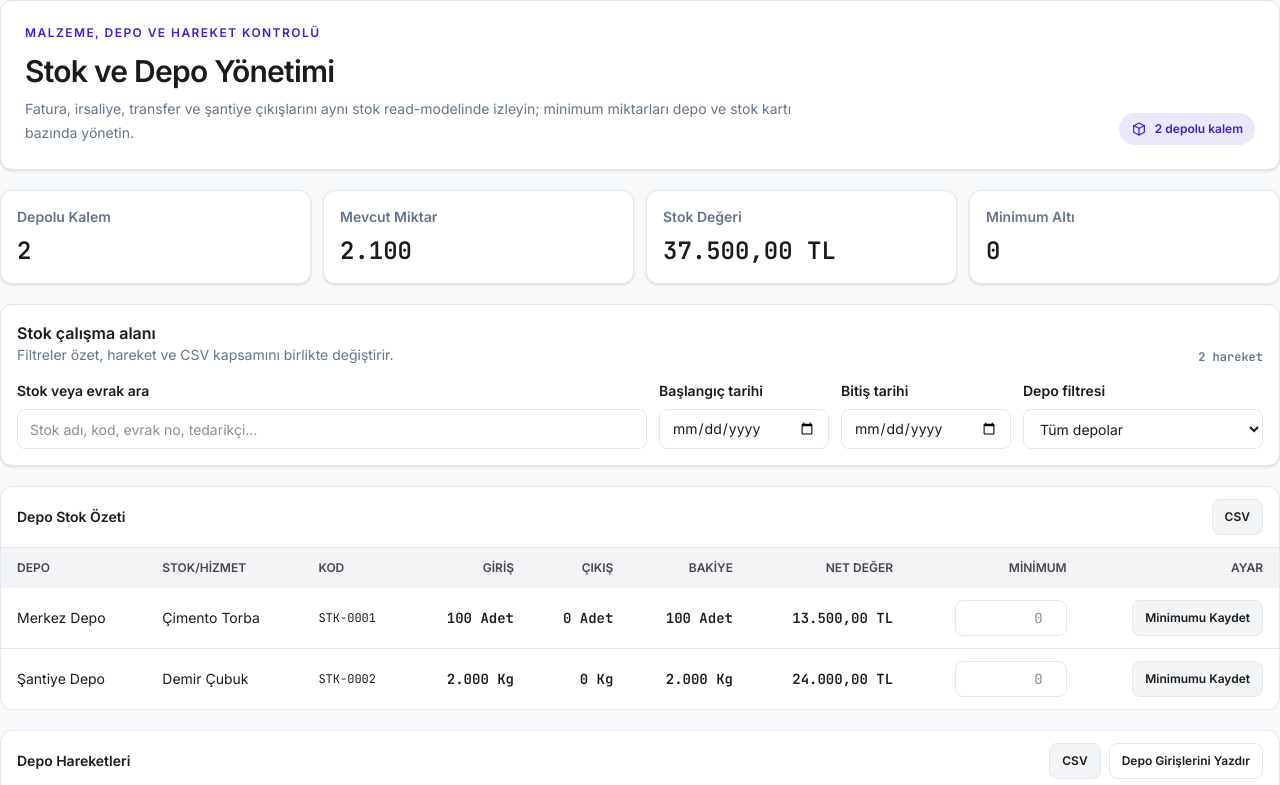
Test: StockDepotSurface › prints the filtered stock depot movement scope
Step 1. Type "2026-07-01" into the date field labelled "Başlangıç tarihi" → [744, 429], box [659,409,829,449]
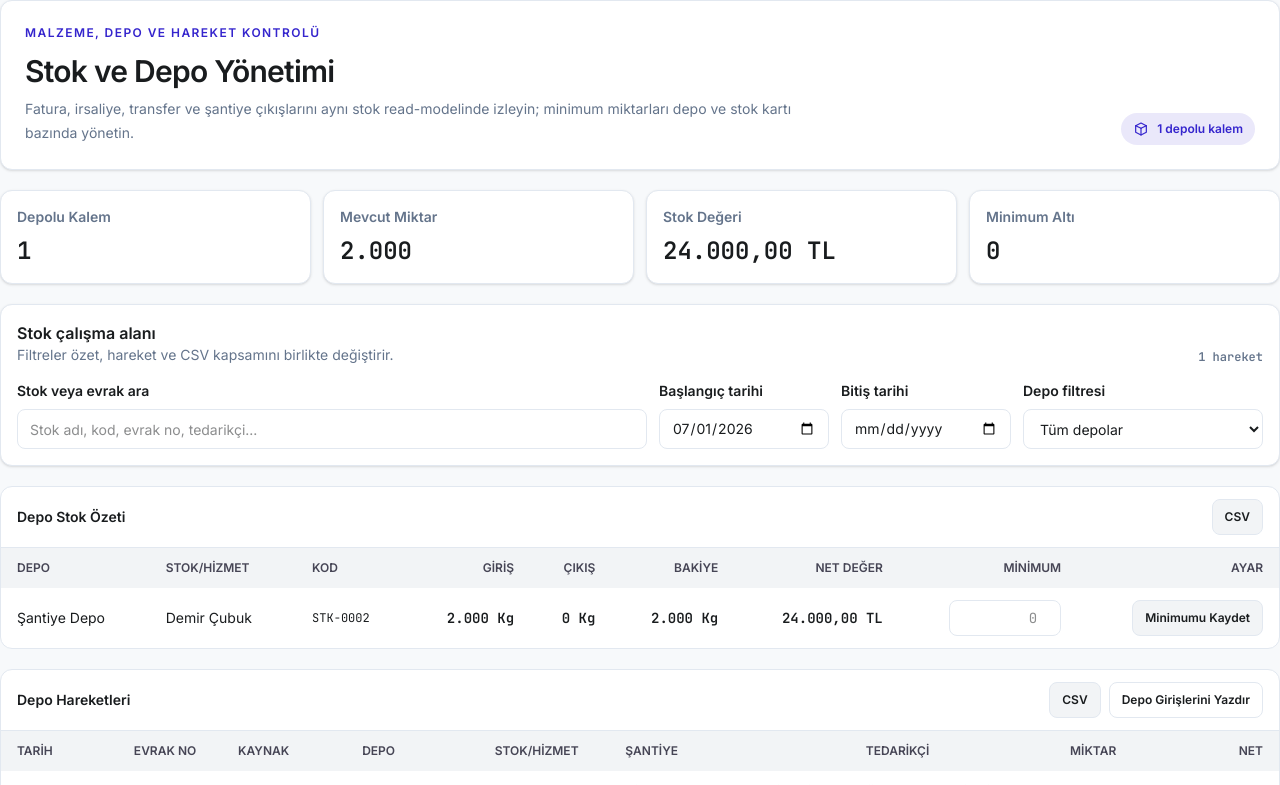
Step 2. Type "2026-07-31" into the date field labelled "Bitiş tarihi" → [926, 429], box [841,409,1011,449]
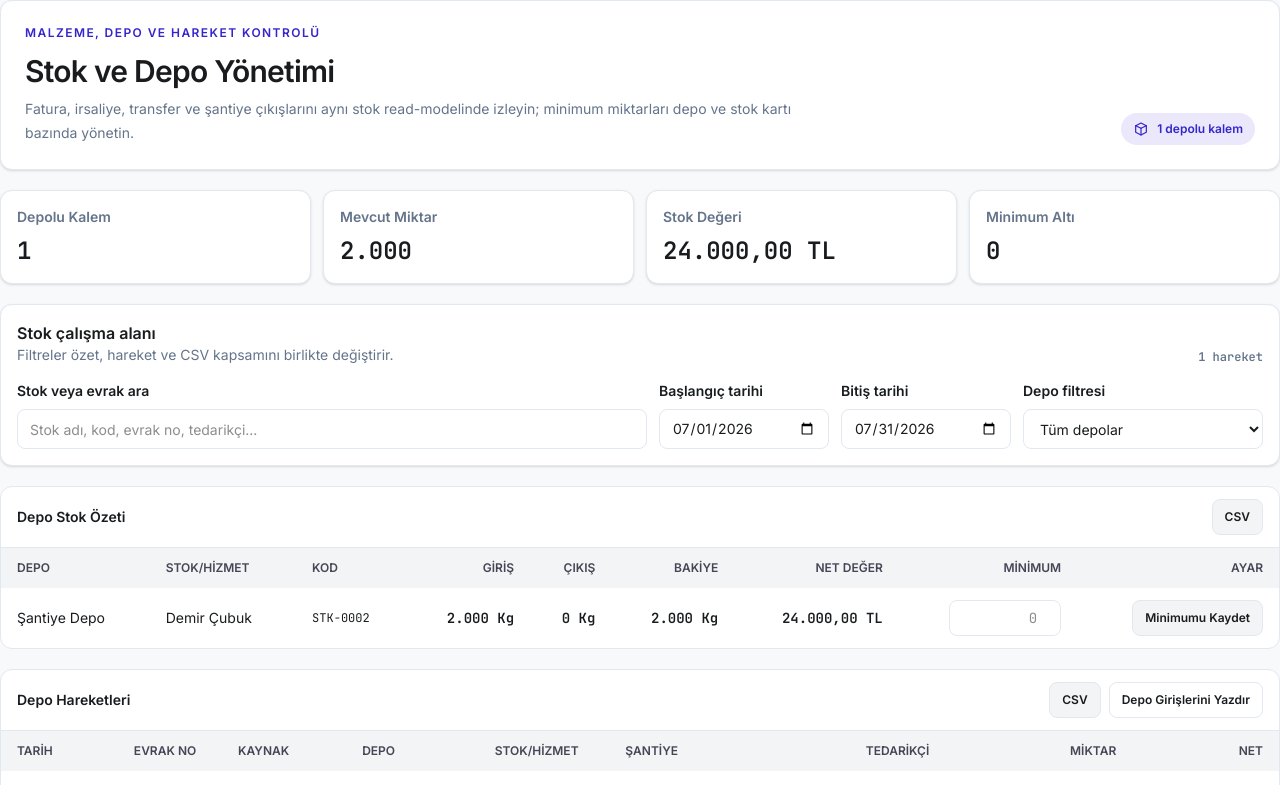
Step 3. Click the button "Depo Girişlerini Yazdır" → [1186, 700], box [1109,682,1263,718]
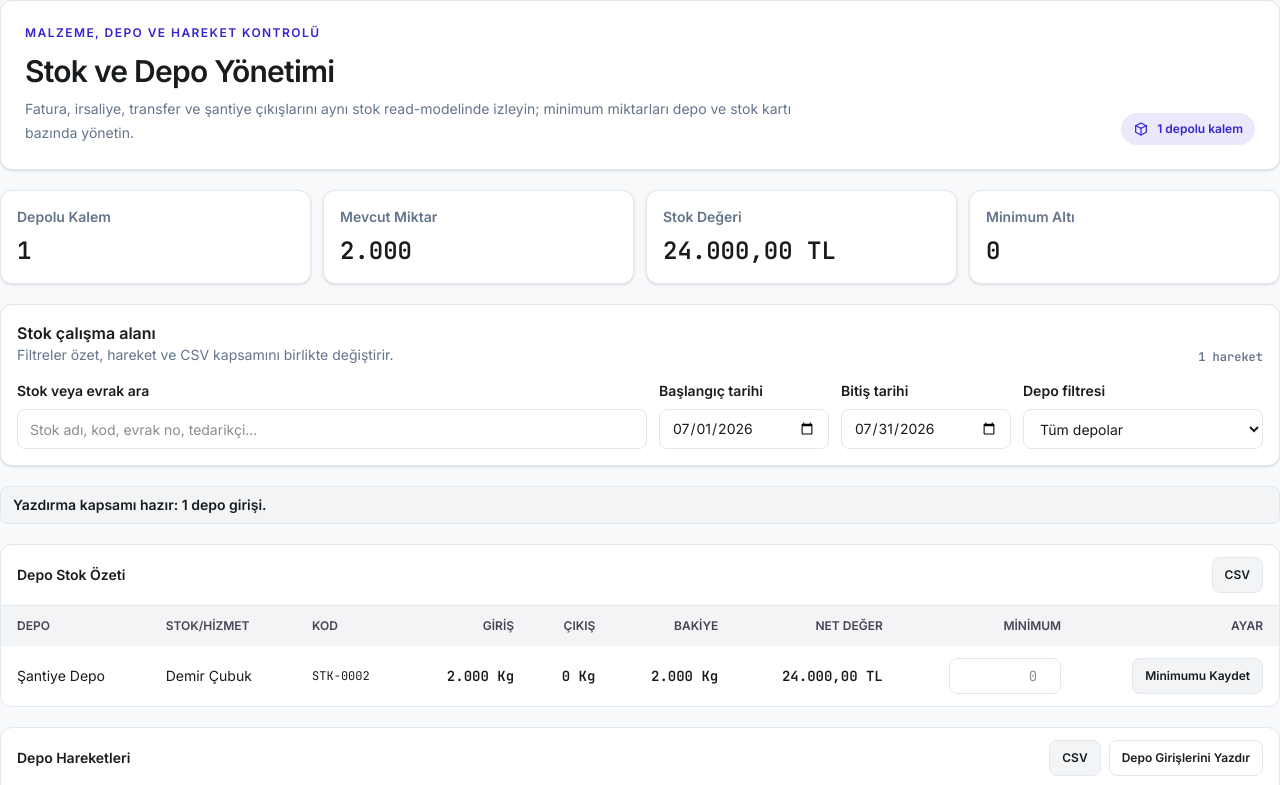
Check: the message reads "Yazdırma kapsamı hazır: 1 depo girişi.", box [13,496,266,513]
